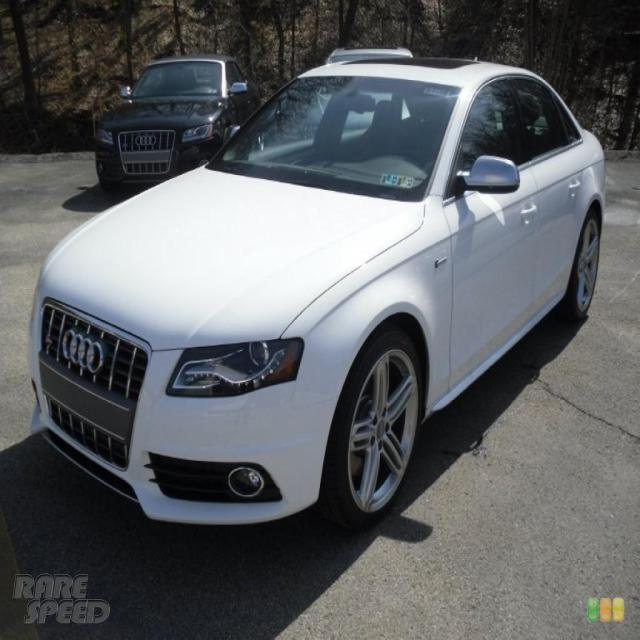Car: (20, 39, 626, 512)
